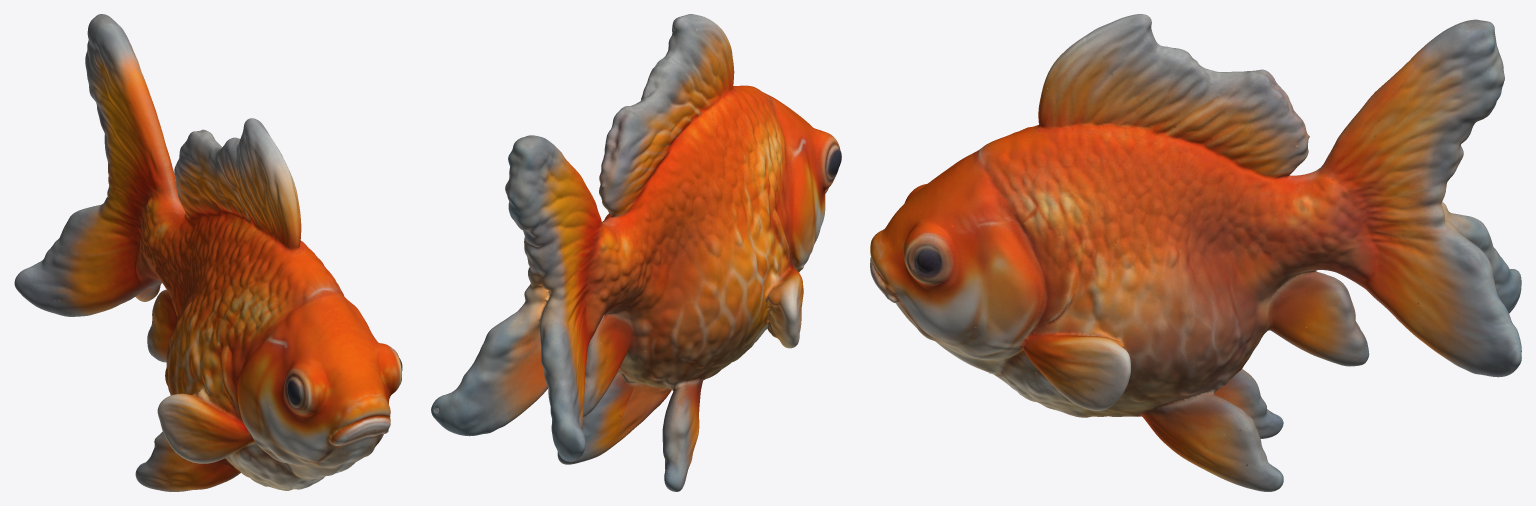
Rendered from goldfish.glb.
3 renders of one model, left to right at view 1: azimuth 30°, elevation 25°; view 2: azimuth 150°, elevation 25°; view 3: azimuth 270°, elevation 25°, orthographic. The views are drawn at different scales.
Bounding box in the file's own units: 0.8215 × 1.53 × 2.
Materials: 1 (1 with a texture image).
